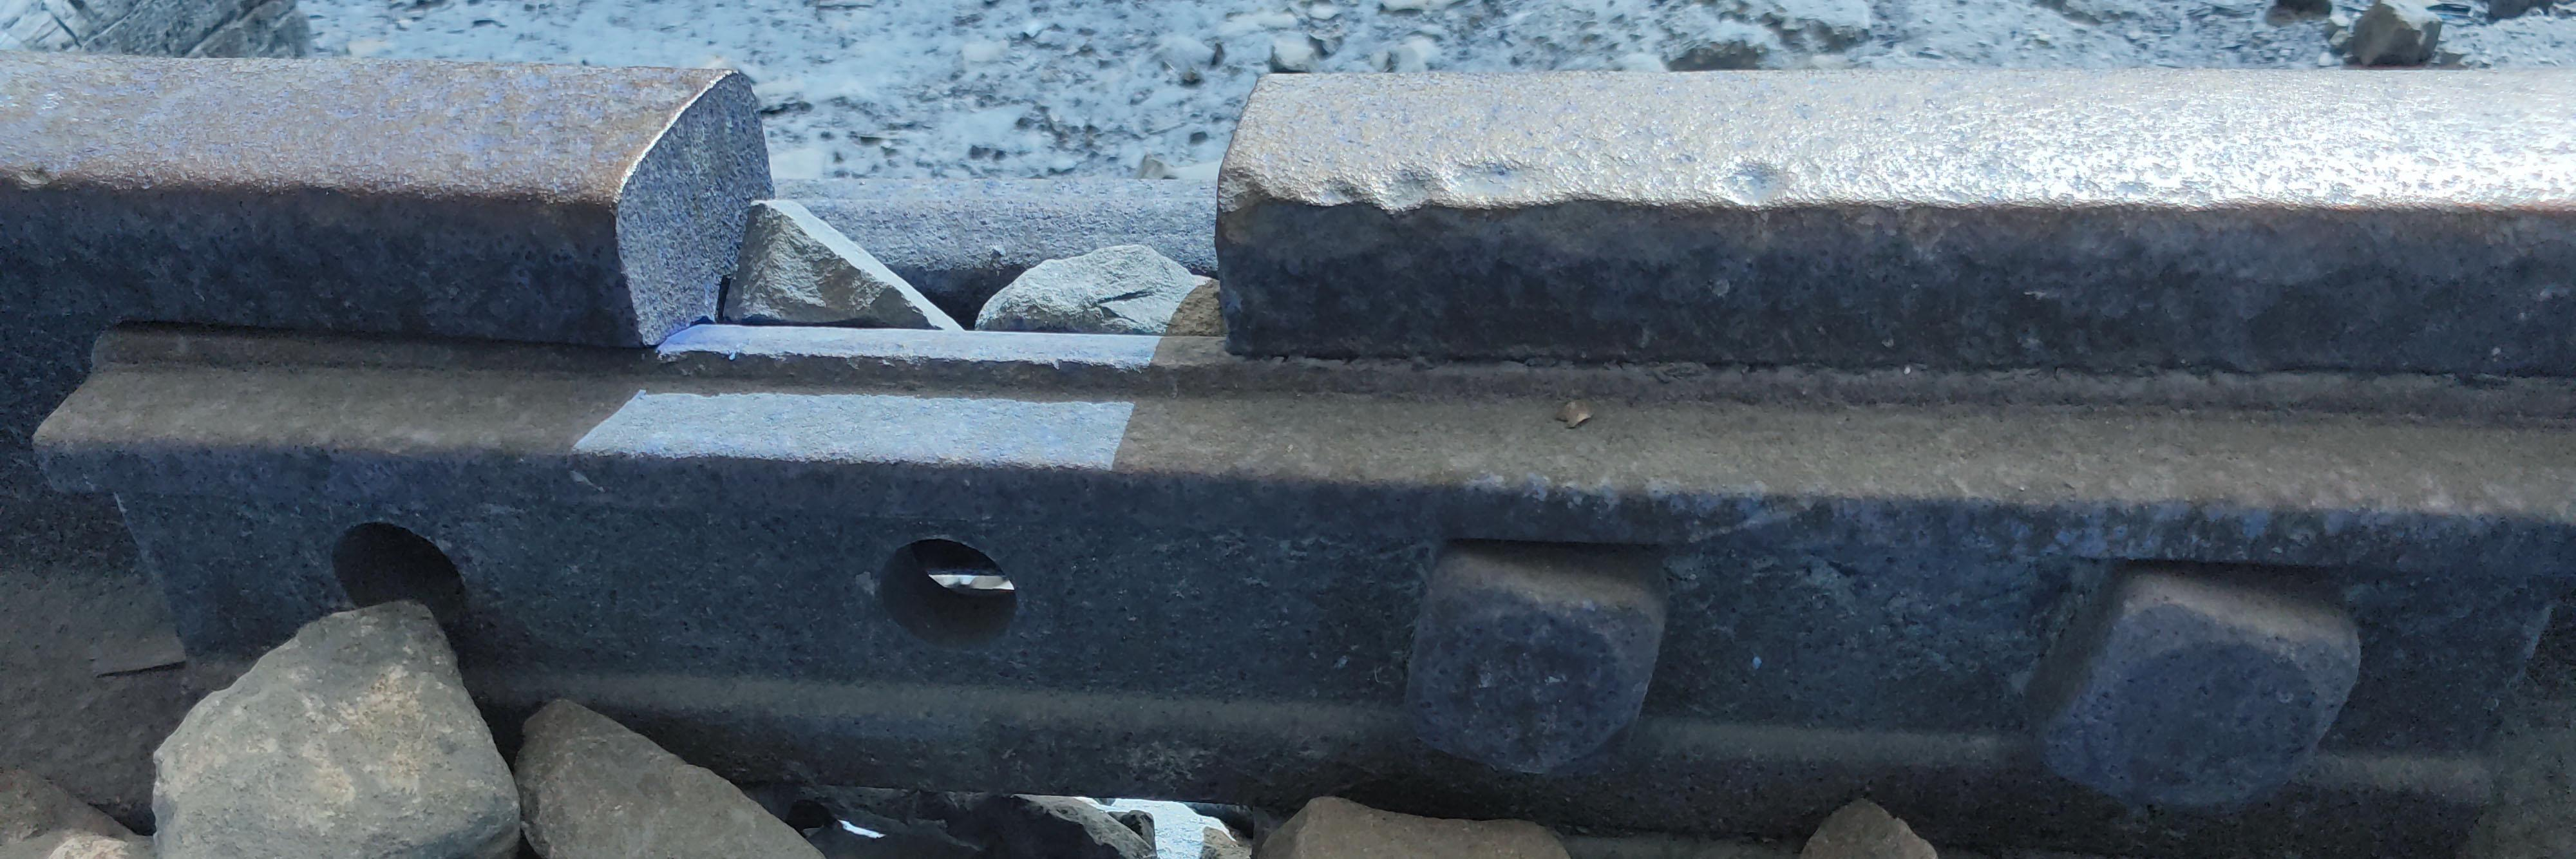error2: (567, 31, 1293, 378)
